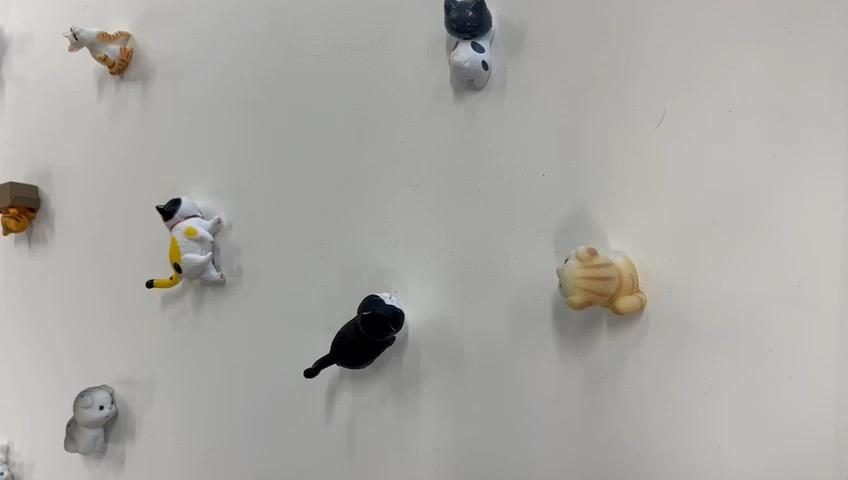pet: (293, 291, 420, 409), (543, 221, 673, 327), (141, 196, 246, 323), (48, 359, 145, 468), (436, 1, 507, 108), (1, 156, 58, 261), (81, 16, 154, 85)
